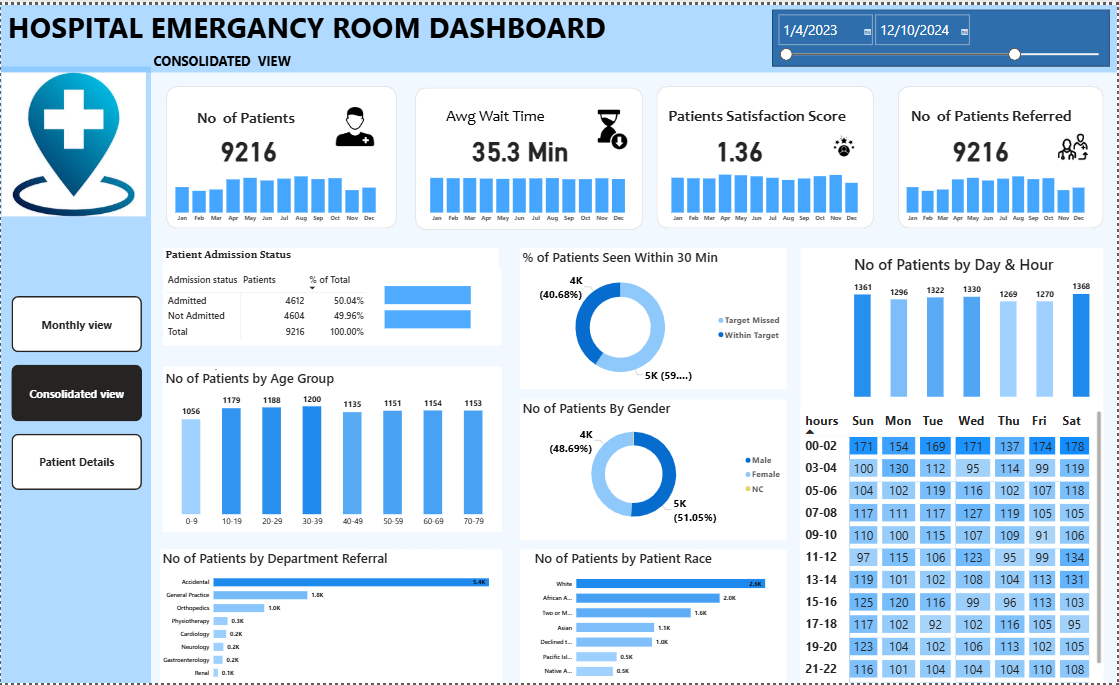

This screenshot's page, from the dashboard's own definition file:
{"tool":"powerbi","page":{"name":"Consolidated view","canvas":[2300,1400],"ordinal":1},"visuals":[{"type":"shape","box":[0,126.8,309.3,1274.3],"z":0},{"type":"textbox","box":[1070.1,832,550.5,272.2],"z":1000},{"type":"textbox","box":[1070.1,501,550.5,290.7],"z":2000},{"type":"textbox","title":"Patient Admission Status","box":[334,745.4,699,340.2],"z":3000},{"type":"textbox","title":"Patient Admission Status","box":[334,501,692.8,197.9],"z":4000},{"type":"shape","box":[1351.6,167,448.5,293.8],"z":5000},{"type":"shape","box":[340.2,167,476.3,293.8],"z":6000},{"type":"shape","box":[854.7,170.1,470.1,293.8],"z":7000},{"type":"shape","box":[0,0,2301.1,139.2],"z":8000},{"type":"textbox","box":[9.3,0,1611.4,92.8],"z":9000},{"type":"textbox","box":[912.4,204.1,238.1,52.6],"z":10000},{"type":"card","fields":{"Values":["Hospital ER_Data.No of Patients"]},"box":[442.3,256.7,136.1,77.3],"z":11000},{"type":"slicer","fields":{"Values":["Data Table.Date"]},"box":[1589.7,9.3,695.9,117.5],"z":12000},{"type":"textbox","box":[309.3,92.8,327.8,46.4],"z":13000},{"type":"clusteredColumnChart","fields":{"Y":["Hospital ER_Data.No of Patients"],"Category":["Data Table.Month Name"]},"box":[340.2,334,451.6,123.7],"z":14000},{"type":"textbox","box":[399,207.2,238.1,49.5],"z":15000},{"type":"card","fields":{"Values":["Hospital ER_Data.Awg Wait Time"]},"box":[965,256.7,210.3,77.3],"z":16000},{"type":"clusteredColumnChart","fields":{"Y":["Avg(Hospital ER_Data.Patient Waittime)"],"Category":["Data Table.Month Name"]},"box":[866,334,439.2,123.7],"z":17000},{"type":"textbox","box":[1363.9,204.1,420.6,52.6],"z":18000},{"type":"card","fields":{"Values":["Hospital ER_Data.Satisfaction score"]},"box":[1453.6,256.7,136.1,77.3],"z":19000},{"type":"shape","box":[1849.5,167,423.7,293.8],"z":20000},{"type":"textbox","box":[1871.2,204.1,380.4,52.6],"z":21000},{"type":"card","fields":{"Values":["Hospital ER_Data.No of Patient Referred"]},"box":[1951.6,256.7,136.1,77.3],"z":22000},{"type":"clusteredColumnChart","fields":{"Category":["Data Table.Month Name"],"Y":["Hospital ER_Data.Satisfaction score"]},"box":[1363.9,334,420.6,123.7],"z":23000},{"type":"clusteredColumnChart","fields":{"Y":["Hospital ER_Data.No of Patient Referred"],"Category":["Data Table.Month Name"]},"box":[1849.5,334,402.1,123.7],"z":24000},{"type":"pivotTable","fields":{"Rows":["Hospital ER_Data.Admission status"],"Values":["Hospital ER_Data.No of Patients1","Hospital ER_Data.No of Patients"]},"box":[334,544.3,699,157.7],"z":25000},{"type":"barChart","fields":{"Category":["Hospital ER_Data.Admission status"],"Y":["Hospital ER_Data.No of Patients"]},"box":[785.6,541.2,241.2,157.7],"z":26000},{"type":"clusteredColumnChart","fields":{"Category":["Hospital ER_Data.Age Group"],"Y":["Hospital ER_Data.No of Patients"]},"box":[334,751.6,699,334],"z":27000},{"type":"textbox","box":[334,1122.7,699,256.7],"z":28000},{"type":"clusteredBarChart","fields":{"Category":["Hospital ER_Data.Department Referral"],"Y":["Hospital ER_Data.No of Patients"]},"box":[327.8,1122.7,705.2,278.4],"z":29000},{"type":"donutChart","title":"% of Patients Seen Within 30 Min","fields":{"Category":["Hospital ER_Data.Waittime Status"],"Y":["Hospital ER_Data.No of Patients"]},"box":[1070.1,501,550.5,290.7],"z":30000},{"type":"donutChart","title":"No of Patients By Gender ","fields":{"Y":["Hospital ER_Data.No of Patients"],"Category":["Hospital ER_Data.Patient Gender"]},"box":[1070.1,813.4,550.5,272.2],"z":31000},{"type":"textbox","box":[1070.1,1122.7,550.5,278.4],"z":32000},{"type":"clusteredBarChart","fields":{"Y":["Hospital ER_Data.No of Patients"],"Category":["Hospital ER_Data.Patient Race"]},"box":[1094.9,1122.7,510.3,278.4],"z":33000},{"type":"textbox","box":[1648.5,501,624.8,878.4],"z":34000},{"type":"pivotTable","fields":{"Rows":["Hospital ER_Data.Admission Time Interval"],"Values":["Hospital ER_Data.No of Patients"],"Columns":["Data Table.Day Name"]},"box":[1648.5,832,624.8,569.1],"z":35000},{"type":"clusteredColumnChart","title":"No of Patients by Day & Hour","fields":{"Category":["Data Table.Day Name"],"Y":["Hospital ER_Data.No of Patients"]},"box":[1753.6,513.4,497.9,300],"z":36000},{"type":"image","box":[0,139.2,300,296.9],"z":37000},{"type":"pageNavigator","box":[21.6,600,269.1,402.1],"z":38000},{"type":"image","box":[674.2,210.3,111.3,80.4],"z":39000},{"type":"image","box":[1215.5,213.4,89.7,86.6],"z":40000},{"type":"image","box":[1691.8,250.5,92.8,80.4],"z":41000},{"type":"image","box":[2168.1,253.6,83.5,77.3],"z":42000}]}

Visuals, with their boxes in screenshot pixels (x1, y1, x2, y2), scaled from the page's 2300x1400 canvas onto the 1119x685 screenshot:
shape: {"left": 0, "top": 62, "right": 150, "bottom": 684}
textbox: {"left": 521, "top": 407, "right": 788, "bottom": 540}
textbox: {"left": 521, "top": 245, "right": 788, "bottom": 387}
"Patient Admission Status" textbox: {"left": 162, "top": 365, "right": 503, "bottom": 531}
"Patient Admission Status" textbox: {"left": 162, "top": 245, "right": 500, "bottom": 342}
shape: {"left": 658, "top": 82, "right": 876, "bottom": 225}
shape: {"left": 166, "top": 82, "right": 397, "bottom": 225}
shape: {"left": 416, "top": 83, "right": 645, "bottom": 227}
shape: {"left": 0, "top": 0, "right": 1118, "bottom": 68}
textbox: {"left": 5, "top": 0, "right": 789, "bottom": 45}
textbox: {"left": 444, "top": 100, "right": 560, "bottom": 126}
card - Hospital ER_Data.No of Patients: {"left": 215, "top": 126, "right": 281, "bottom": 163}
slicer - Data Table.Date: {"left": 773, "top": 5, "right": 1112, "bottom": 62}
textbox: {"left": 150, "top": 45, "right": 310, "bottom": 68}
clusteredColumnChart - Hospital ER_Data.No of Patients x Data Table.Month Name: {"left": 166, "top": 163, "right": 385, "bottom": 224}
textbox: {"left": 194, "top": 101, "right": 310, "bottom": 126}
card - Hospital ER_Data.Awg Wait Time: {"left": 469, "top": 126, "right": 572, "bottom": 163}
clusteredColumnChart - Avg(Hospital ER_Data.Patient Waittime) x Data Table.Month Name: {"left": 421, "top": 163, "right": 635, "bottom": 224}
textbox: {"left": 664, "top": 100, "right": 868, "bottom": 126}
card - Hospital ER_Data.Satisfaction score: {"left": 707, "top": 126, "right": 773, "bottom": 163}
shape: {"left": 900, "top": 82, "right": 1106, "bottom": 225}
textbox: {"left": 910, "top": 100, "right": 1095, "bottom": 126}
card - Hospital ER_Data.No of Patient Referred: {"left": 949, "top": 126, "right": 1016, "bottom": 163}
clusteredColumnChart - Data Table.Month Name x Hospital ER_Data.Satisfaction score: {"left": 664, "top": 163, "right": 868, "bottom": 224}
clusteredColumnChart - Hospital ER_Data.No of Patient Referred x Data Table.Month Name: {"left": 900, "top": 163, "right": 1095, "bottom": 224}
pivotTable - Hospital ER_Data.Admission status x Hospital ER_Data.No of Patients1: {"left": 162, "top": 266, "right": 503, "bottom": 343}
barChart - Hospital ER_Data.Admission status x Hospital ER_Data.No of Patients: {"left": 382, "top": 265, "right": 500, "bottom": 342}
clusteredColumnChart - Hospital ER_Data.Age Group x Hospital ER_Data.No of Patients: {"left": 162, "top": 368, "right": 503, "bottom": 531}
textbox: {"left": 162, "top": 549, "right": 503, "bottom": 675}
clusteredBarChart - Hospital ER_Data.Department Referral x Hospital ER_Data.No of Patients: {"left": 159, "top": 549, "right": 503, "bottom": 684}
"% of Patients Seen Within 30 Min" donutChart: {"left": 521, "top": 245, "right": 788, "bottom": 387}
"No of Patients By Gender " donutChart: {"left": 521, "top": 398, "right": 788, "bottom": 531}
textbox: {"left": 521, "top": 549, "right": 788, "bottom": 684}
clusteredBarChart - Hospital ER_Data.No of Patients x Hospital ER_Data.Patient Race: {"left": 533, "top": 549, "right": 781, "bottom": 684}
textbox: {"left": 802, "top": 245, "right": 1106, "bottom": 675}
pivotTable - Hospital ER_Data.Admission Time Interval x Hospital ER_Data.No of Patients: {"left": 802, "top": 407, "right": 1106, "bottom": 684}
"No of Patients by Day & Hour" clusteredColumnChart: {"left": 853, "top": 251, "right": 1095, "bottom": 398}
image: {"left": 0, "top": 68, "right": 146, "bottom": 213}
pageNavigator: {"left": 11, "top": 294, "right": 141, "bottom": 490}
image: {"left": 328, "top": 103, "right": 382, "bottom": 142}
image: {"left": 591, "top": 104, "right": 635, "bottom": 147}
image: {"left": 823, "top": 123, "right": 868, "bottom": 162}
image: {"left": 1055, "top": 124, "right": 1095, "bottom": 162}
